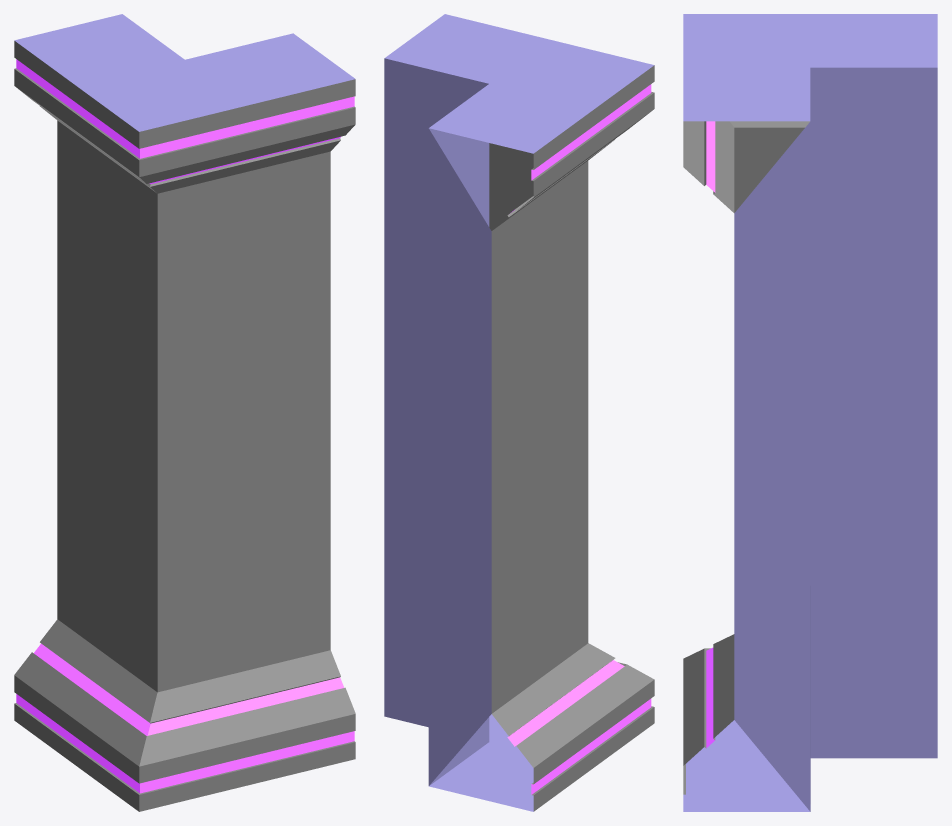
Rendered from WallCornerSharp.FBX.
3 renders of one model, left to right at view 1: azimuth 30°, elevation 25°; view 2: azimuth 150°, elevation 25°; view 3: azimuth 270°, elevation 25°, orthographic. The views are drawn at different scales.
Visible parts, largest first — view 1: WallCornerSharp; view 2: WallCornerSharp; view 3: WallCornerSharp.
Boxes of the visible parts, <box> form: WallCornerSharp: <box>14,14,355,811</box>; WallCornerSharp: <box>384,14,654,811</box>; WallCornerSharp: <box>683,14,937,811</box>.
Size of the model in its own units: 100 by 100 by 300.
